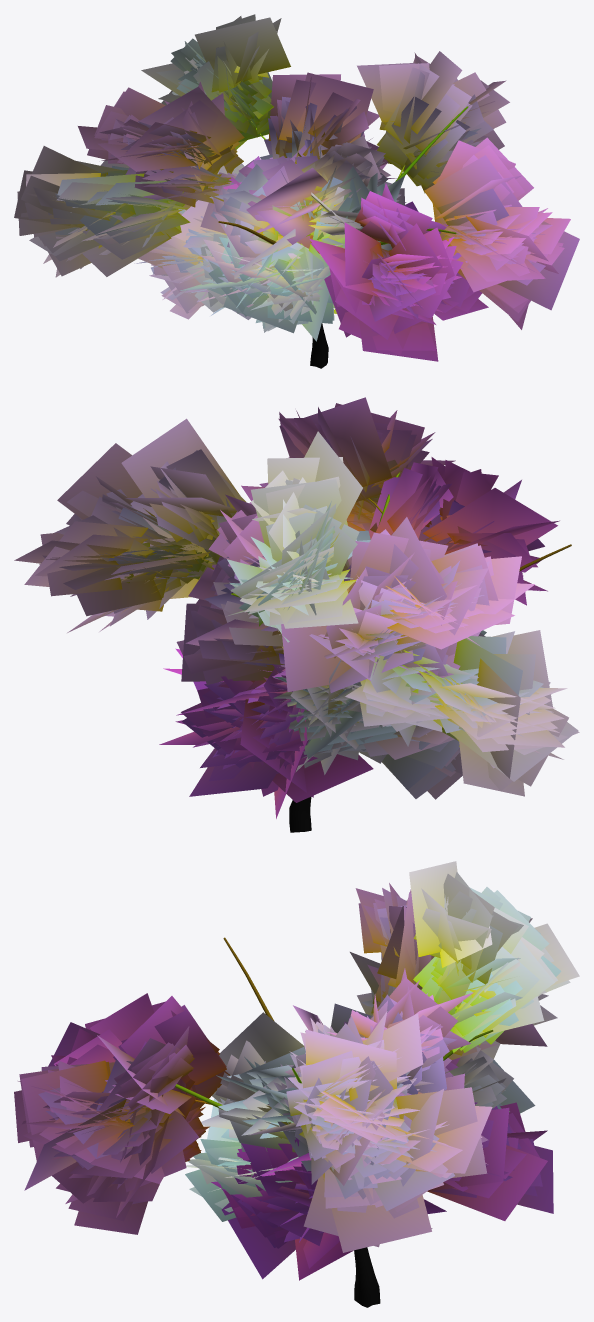
File: tree_cherry_a_green.glb
The picture shows the model from 3 angles, top to bottom: view 1: azimuth 30°, elevation 25°; view 2: azimuth 150°, elevation 25°; view 3: azimuth 270°, elevation 25°; orthographic projection. The views are drawn at different scales.
Parts seen in each view (by area): view 1: tree_cherry_a_green; view 2: tree_cherry_a_green; view 3: tree_cherry_a_green.
Boxes of the visible parts, <box> form: tree_cherry_a_green: <box>14,14,579,368</box>; tree_cherry_a_green: <box>14,397,579,832</box>; tree_cherry_a_green: <box>14,861,579,1307</box>.
Size of the model in its own units: 12.35 by 9 by 11.21.
